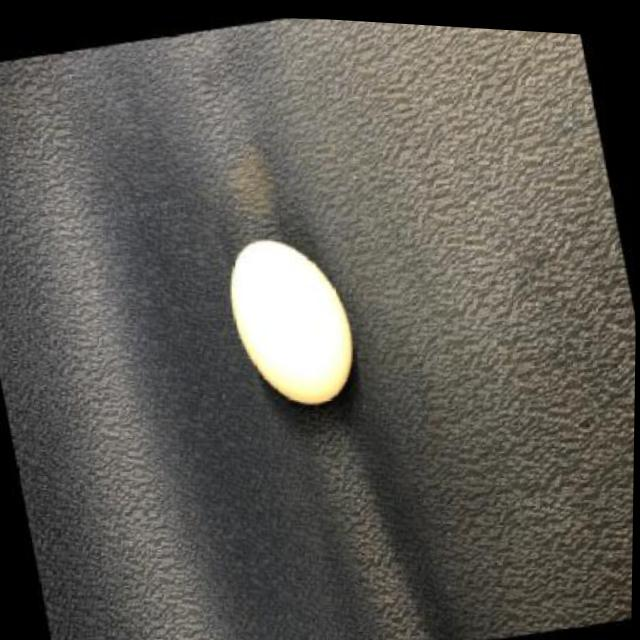egg: (218, 222, 361, 411)
